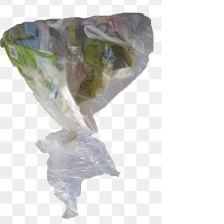plastic_bag: (0, 7, 160, 221)
